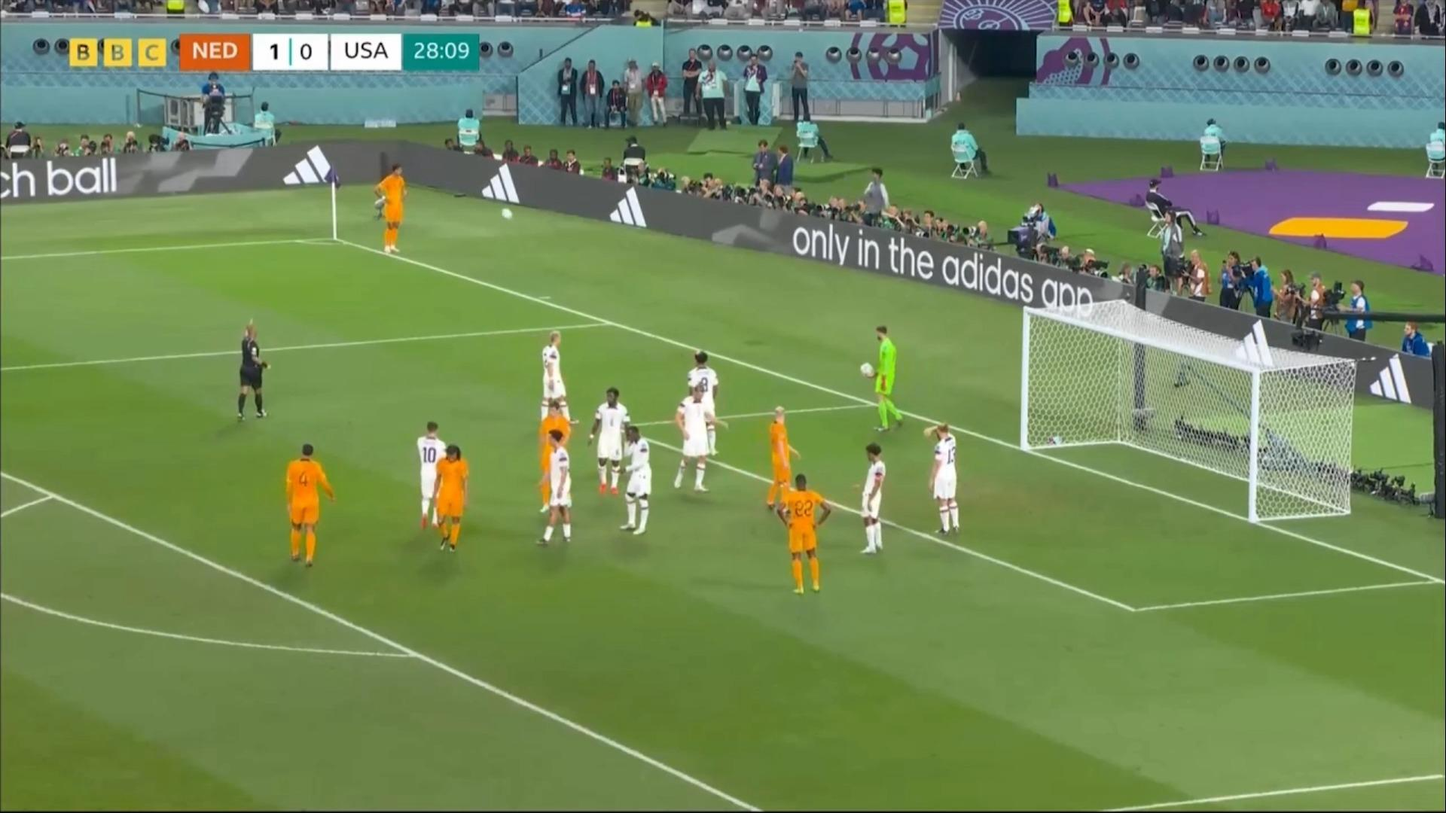Ball: (859, 363, 875, 378)
Player: (276, 442, 338, 571), (778, 481, 832, 599), (672, 380, 724, 496), (919, 423, 967, 539), (850, 443, 893, 557), (430, 447, 474, 557), (536, 430, 575, 550), (761, 405, 802, 519), (587, 390, 630, 494), (369, 161, 414, 258), (413, 424, 455, 527), (616, 424, 652, 536), (534, 400, 570, 509), (541, 331, 578, 425), (872, 325, 904, 433), (687, 350, 719, 454)
Ref: (227, 317, 272, 430)
